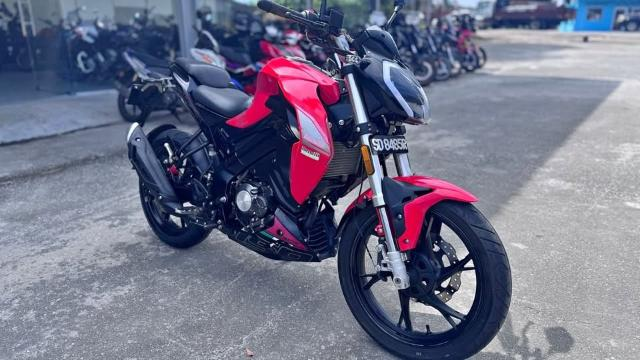License_Plate: (369, 134, 409, 156)
motorcycle: (125, 1, 514, 359)
